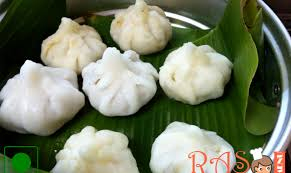modak: (1, 59, 85, 136), (78, 45, 163, 113), (160, 36, 241, 106), (52, 123, 140, 173), (40, 12, 111, 67), (106, 2, 178, 53)
